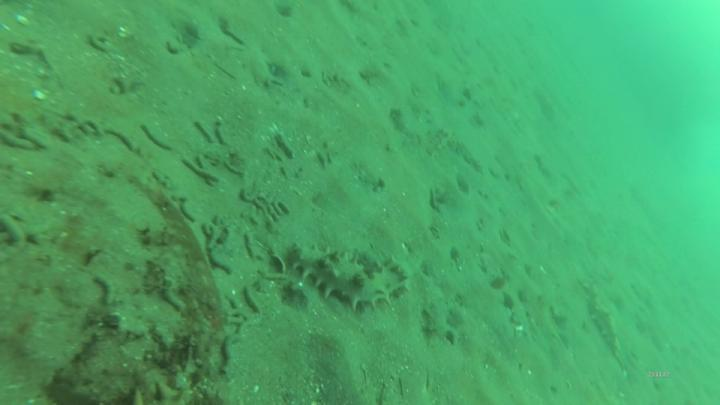holothurian: (288, 239, 412, 312)
